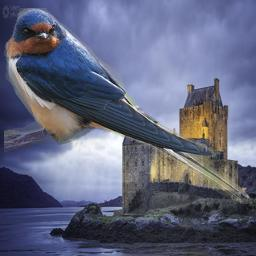Swallow: (4, 8, 252, 204)
